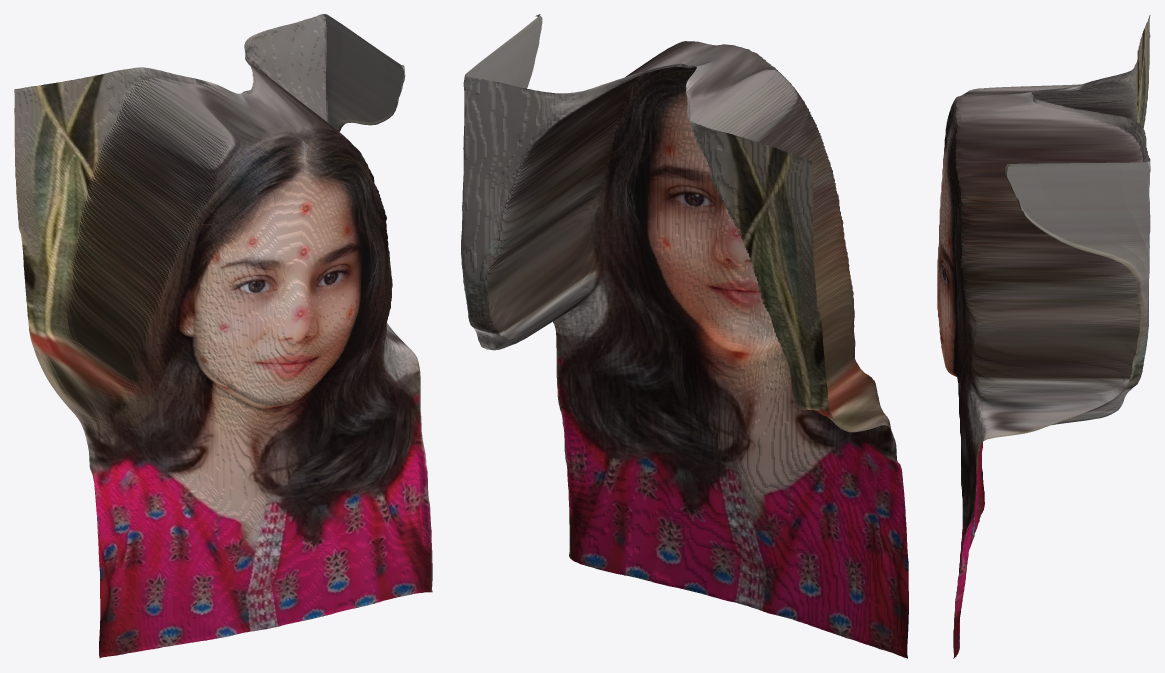
The model's file is holo_depth_3917966038_draco.glb.
3 renders of one model, left to right at view 1: azimuth 30°, elevation 25°; view 2: azimuth 150°, elevation 25°; view 3: azimuth 270°, elevation 25°, orthographic. The views are drawn at different scales.
Parts seen in each view (by area): view 1: world; view 2: world; view 3: world.
Part boxes in pixels (x1,y1,x2,y2): world: (14, 14, 432, 658); world: (461, 14, 908, 658); world: (937, 15, 1150, 658).
Size of the model in its own units: 0.6535 by 0.9991 by 0.39.
Materials: 1 (1 with a texture image).
